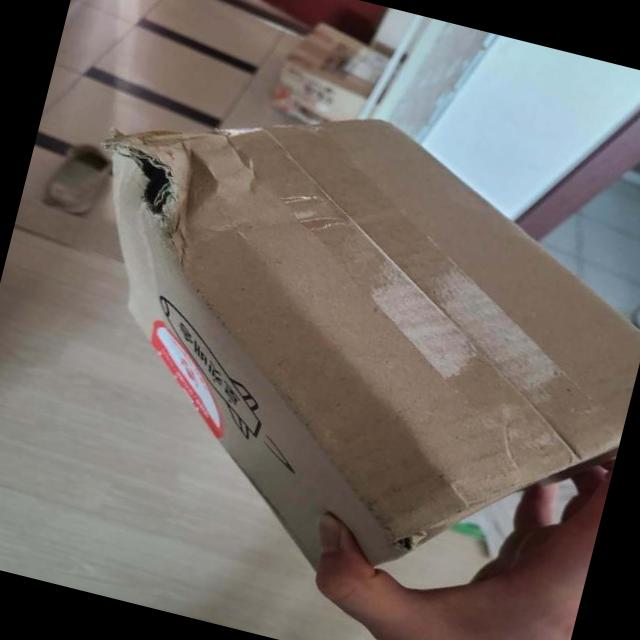box: (104, 116, 640, 568)
crushed: (176, 137, 242, 242)
opened: (109, 123, 182, 222)
